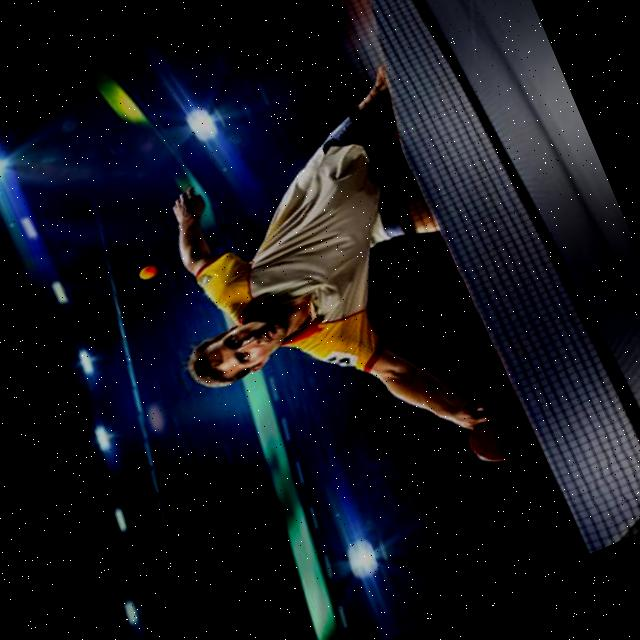ping-pong-ball: (134, 262, 158, 284)
